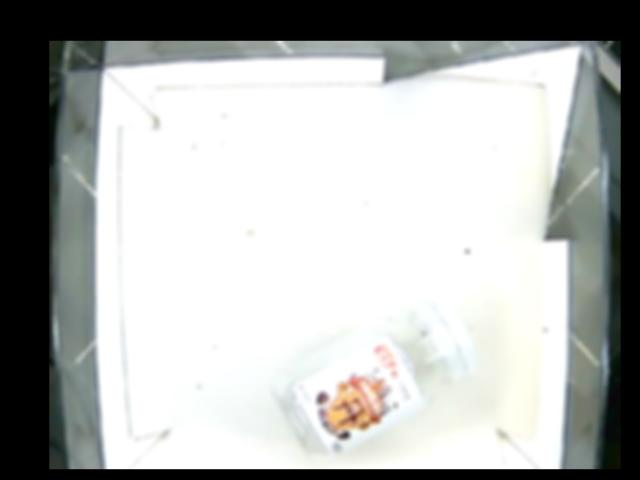Bottle: (267, 294, 479, 461)
